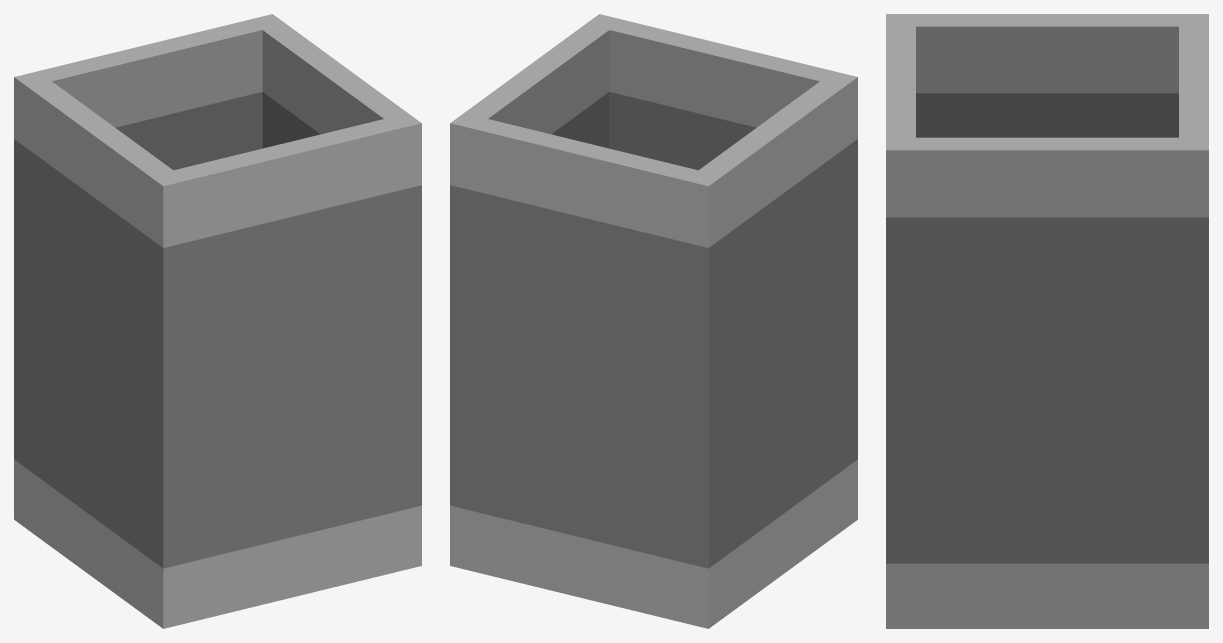
Rendered from TrashBin.glb.
The picture shows the model from 3 angles, left to right: view 1: azimuth 30°, elevation 25°; view 2: azimuth 150°, elevation 25°; view 3: azimuth 270°, elevation 25°; orthographic projection. The views are drawn at different scales.
Parts seen in each view (by area): view 1: SI_Prop_RubbishBin_01; view 2: SI_Prop_RubbishBin_01; view 3: SI_Prop_RubbishBin_01.
Part boxes in pixels (box(x1,y1,x2,y2)): SI_Prop_RubbishBin_01: box(14, 14, 421, 628); SI_Prop_RubbishBin_01: box(450, 14, 857, 628); SI_Prop_RubbishBin_01: box(886, 14, 1208, 628).
Bounding box in the file's own units: 0.00659 × 0.0108 × 0.00659.
1 material, 1 textured.
